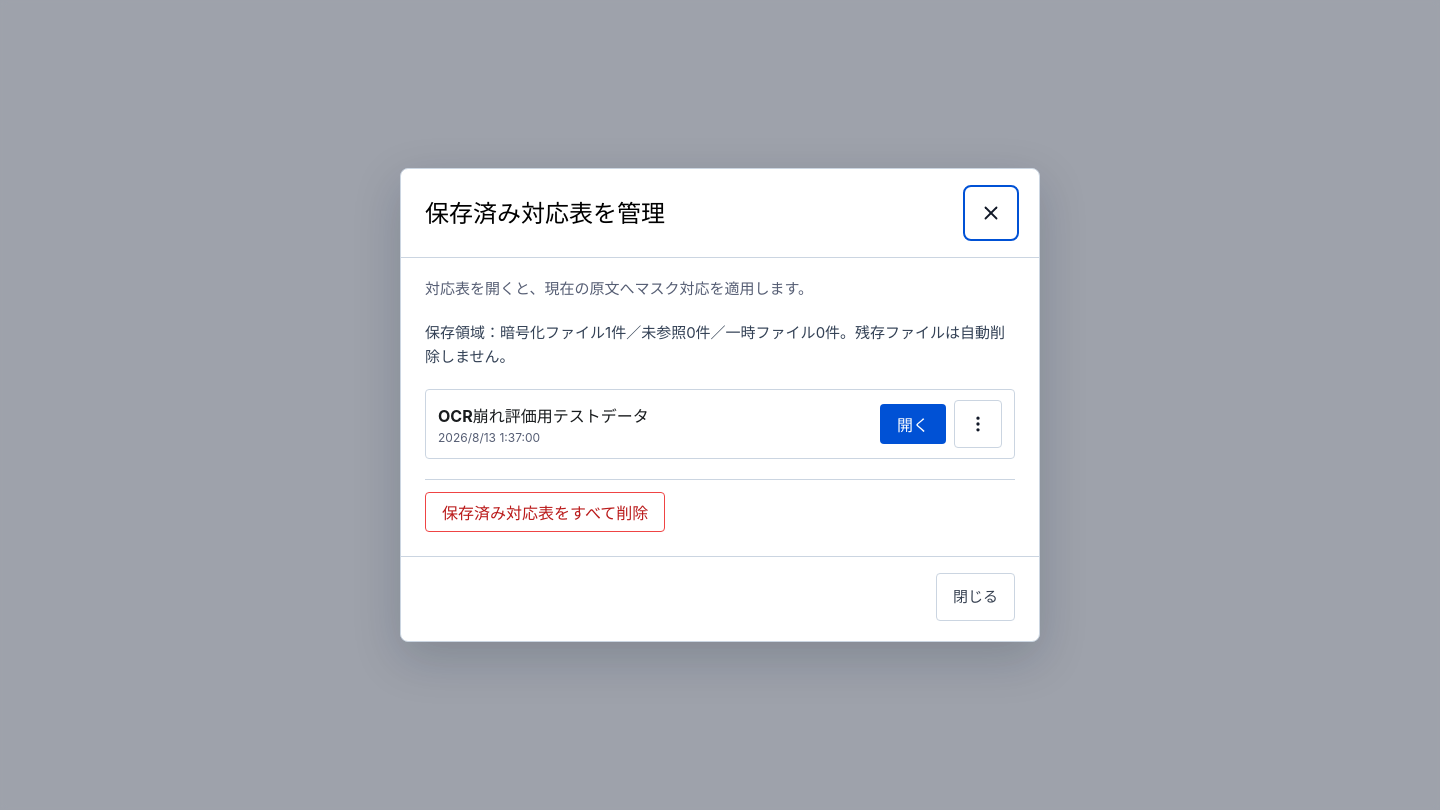
it: MaskMappingLibraryDialog › 誤ったパスフレーズでは画面を閉じずエラーだけを表示する
The image size is (1440, 810).
Click the button "開く".
click(913, 424)  # box [880, 404, 946, 444]
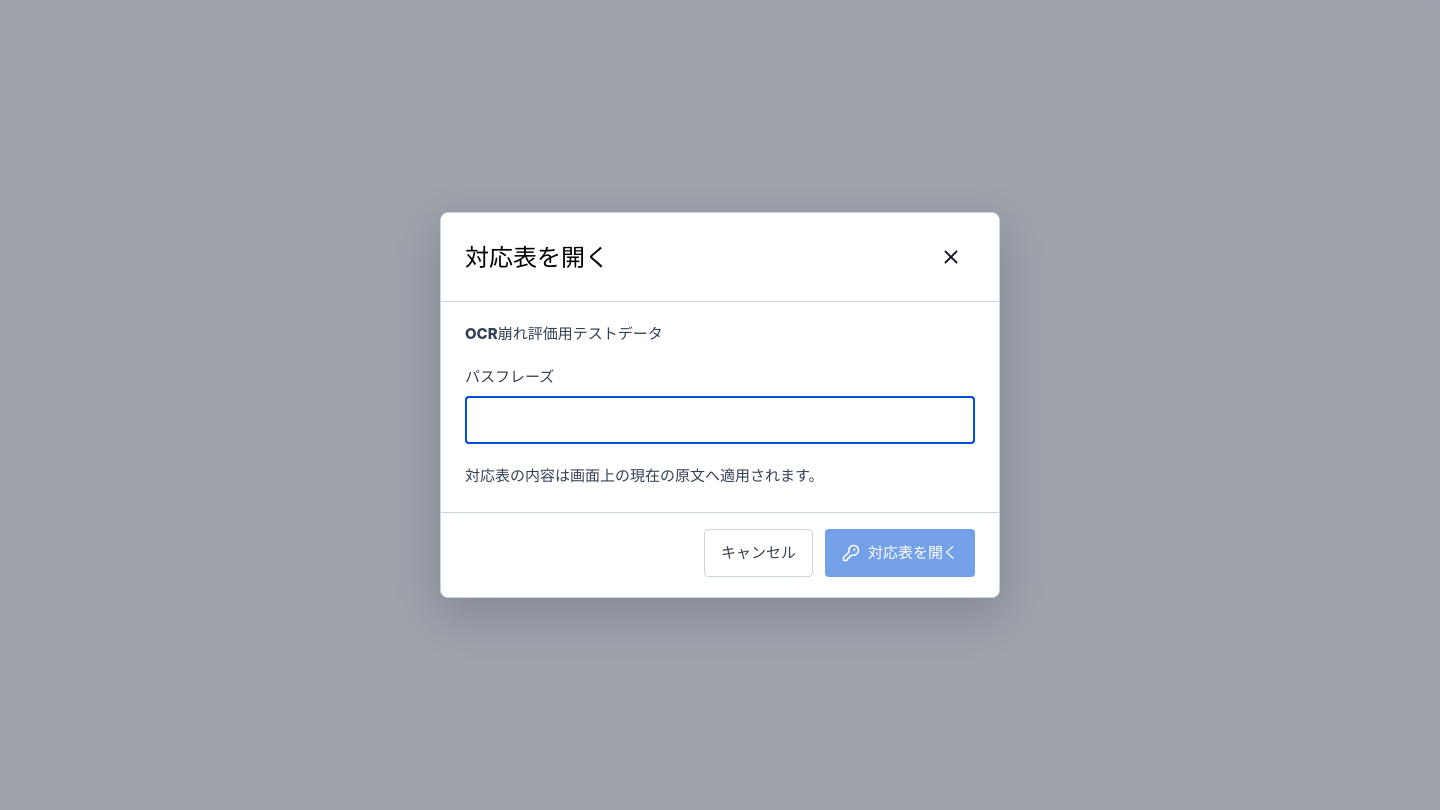
Type "abcdefghijkl" into the password field labelled "パスフレーズ".
click(720, 420); type("abcdefghijkl")  # box [465, 396, 975, 444]
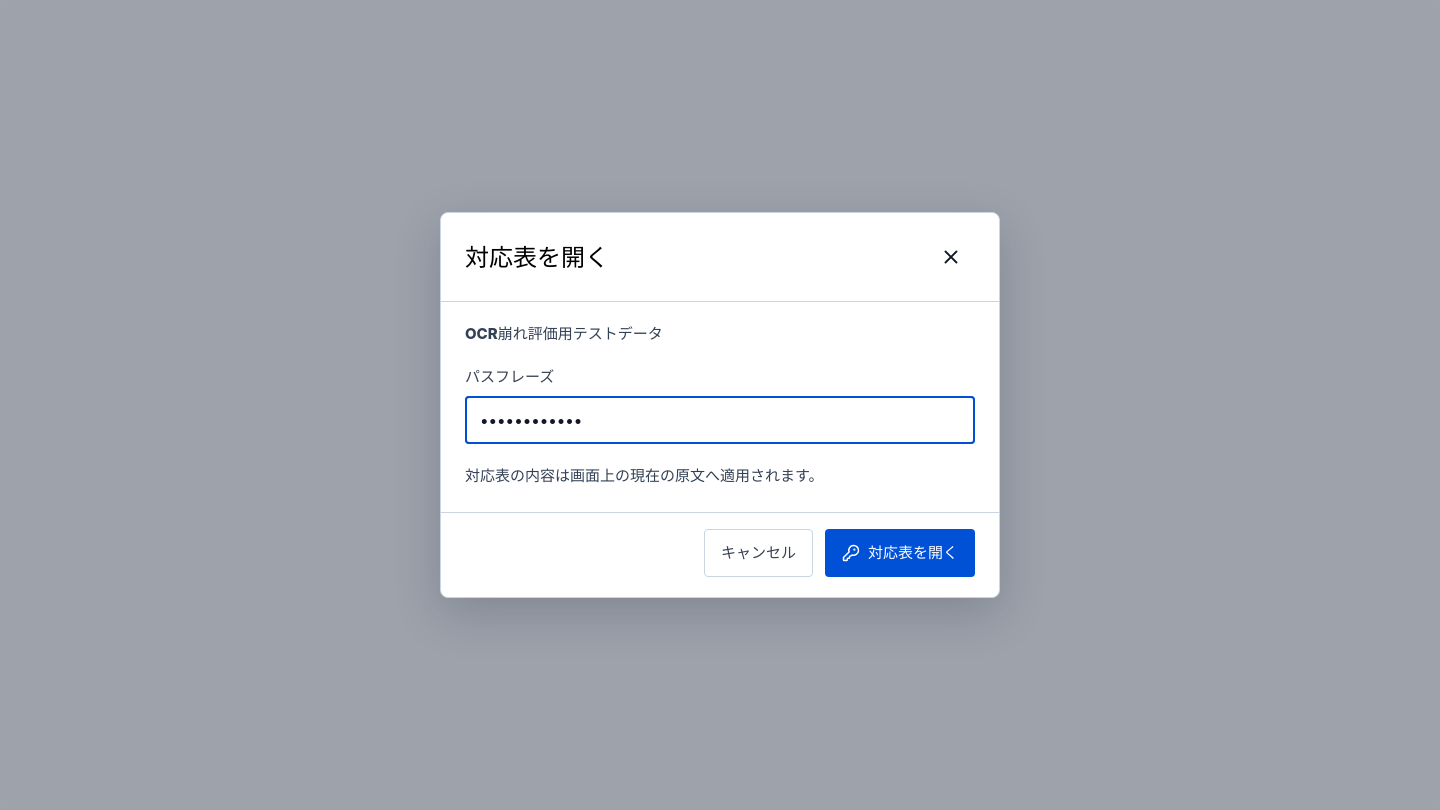
Click the button "対応表を開く".
click(900, 553)  # box [825, 529, 975, 577]
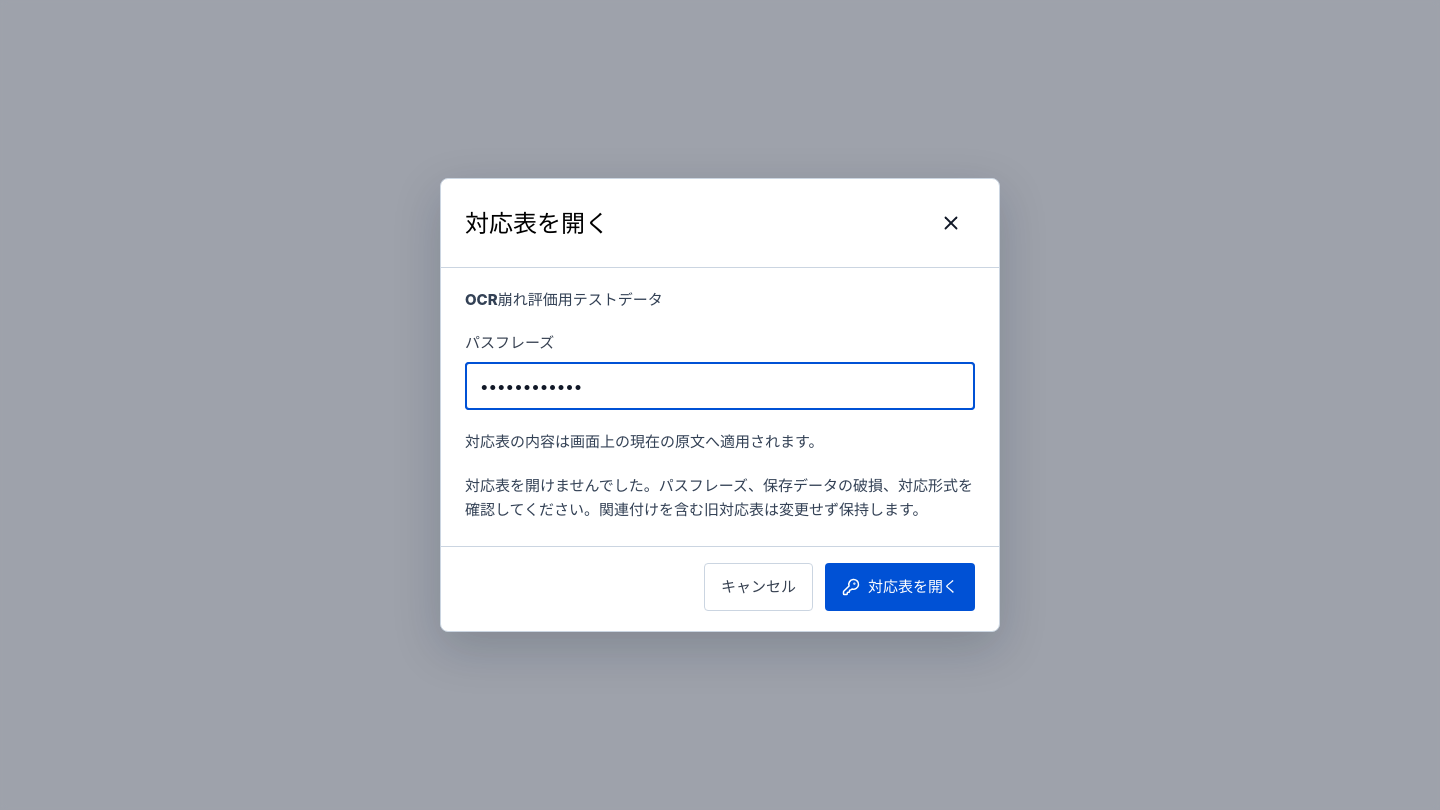
Check: the heading "対応表を開く" is shown, box [465, 207, 609, 240]
Check: the message shows "パスフレーズ、保存データの破損、対応形式を確認してください", box [465, 476, 973, 519]
